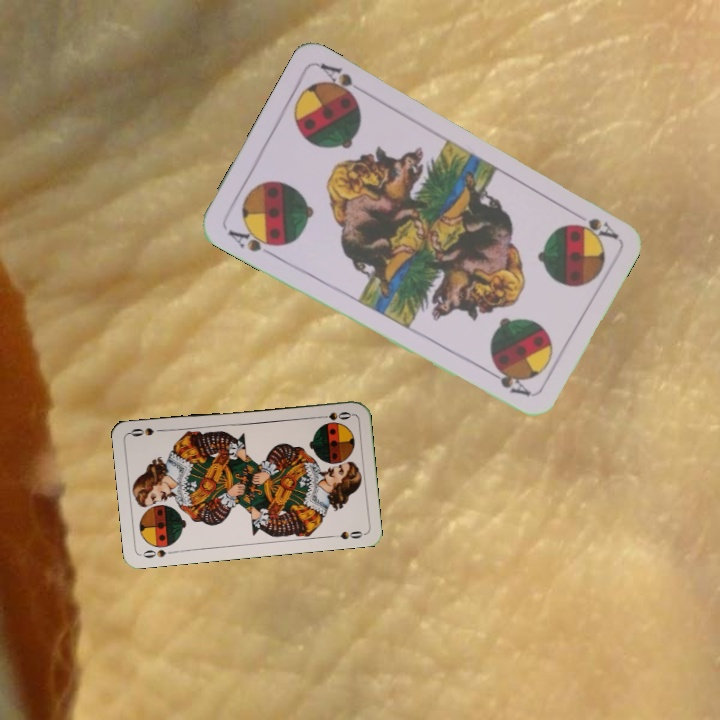SA: (223, 222, 281, 259), (566, 205, 620, 242)
SO: (314, 407, 354, 423), (139, 545, 169, 561)
